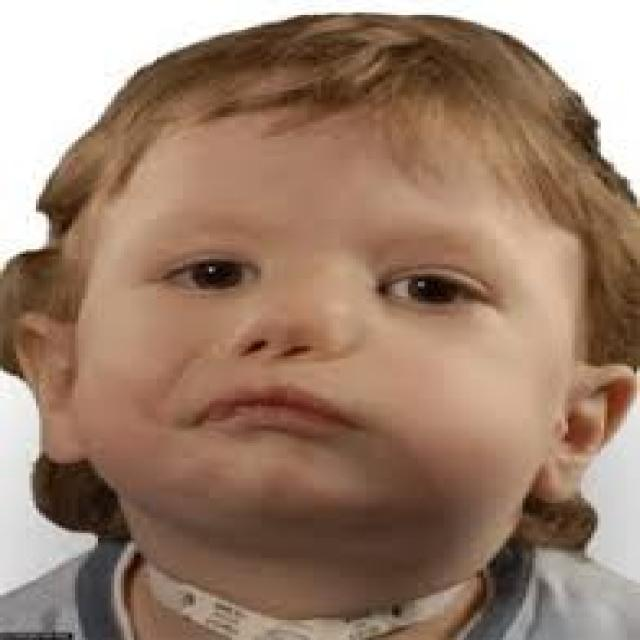stroke_face: (61, 29, 632, 585)
